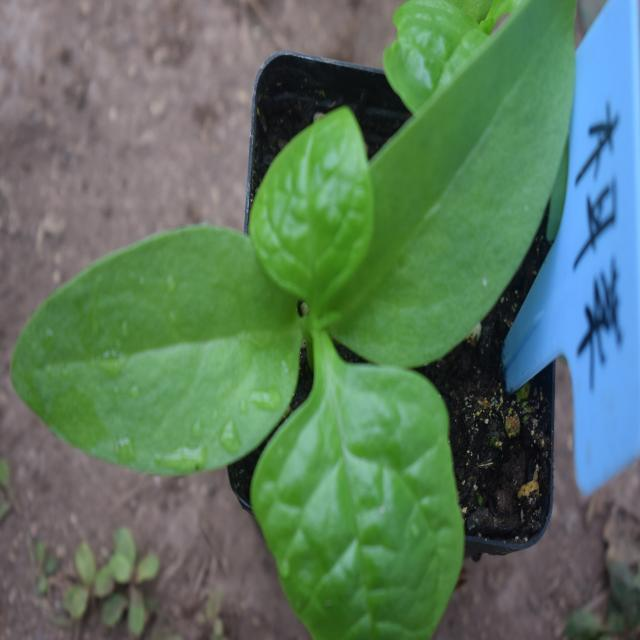Ceylon spinach: (60, 7, 565, 590)
